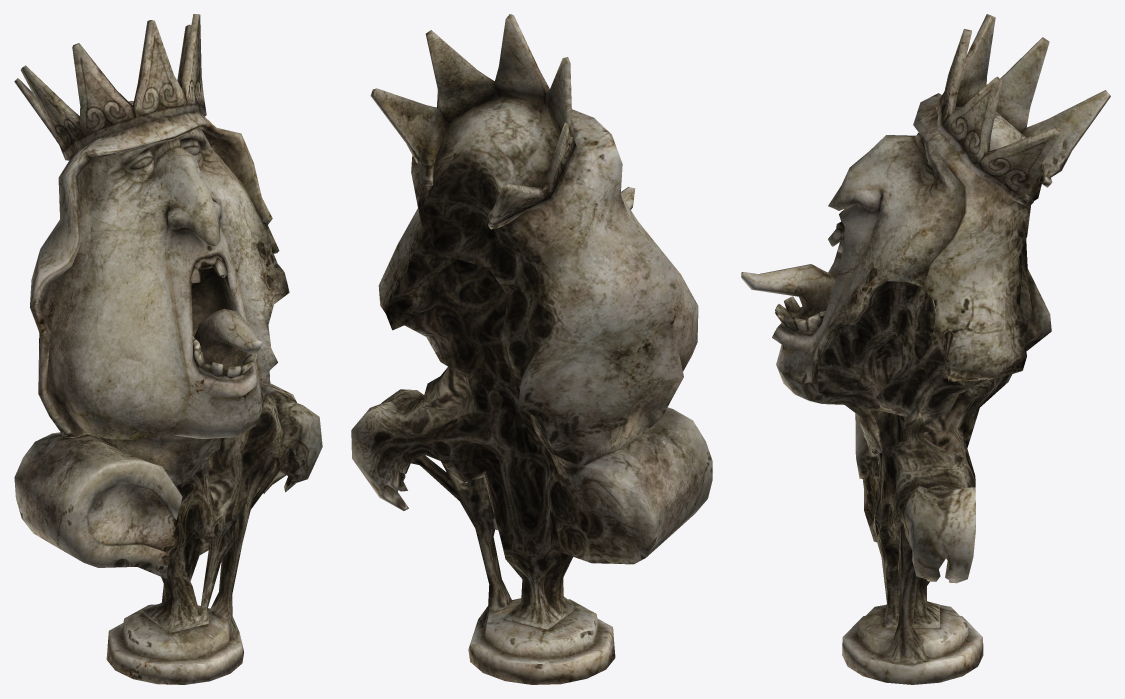
File: Queen Statue D.obj
3 views of the same model, side by side, from view 1: azimuth 30°, elevation 25°; view 2: azimuth 150°, elevation 25°; view 3: azimuth 270°, elevation 25° (orthographic). The views are drawn at different scales.
Parts seen in each view (by area): view 1: QStatuesD; view 2: QStatuesD; view 3: QStatuesD.
Part boxes in pixels (box(x1,y1,x2,y2)): QStatuesD: box(14, 14, 322, 684); QStatuesD: box(351, 14, 712, 684); QStatuesD: box(741, 14, 1110, 684).
Size of the model in its own units: 1.96 by 4.03 by 2.16.
Materials: 1 (1 with a texture image).
